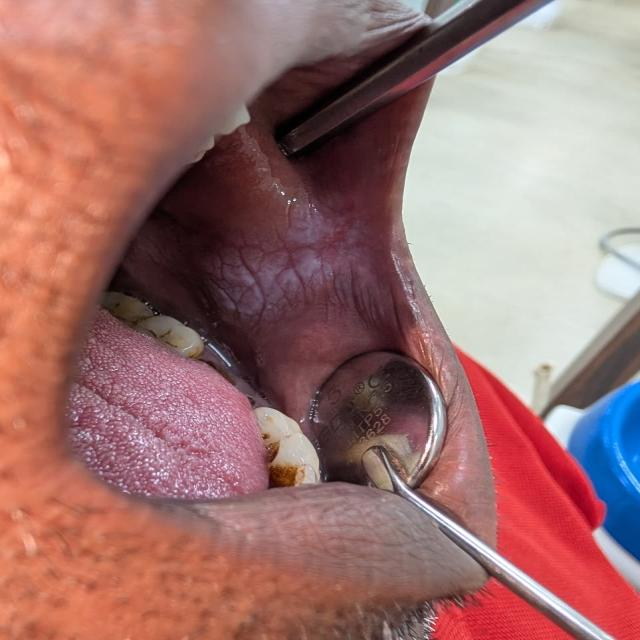leukoplakia-detection: (188, 180, 433, 343)
processing_area: (136, 126, 421, 411), (51, 301, 271, 504)
